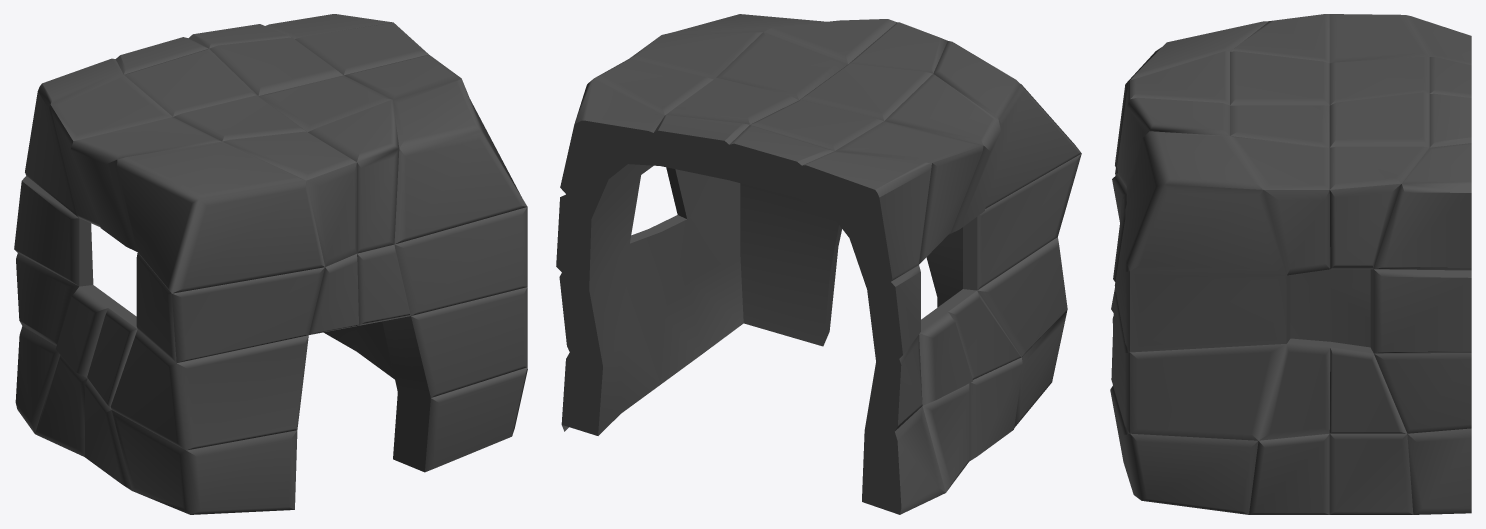
Rendered from Mesh_House_final_Interior_Temple_2_TL.fbx.
3 renders of one model, left to right at view 1: azimuth 30°, elevation 25°; view 2: azimuth 150°, elevation 25°; view 3: azimuth 270°, elevation 25°, orthographic.
Parts seen in each view (by area): view 1: Mesh_House_final_Interior_Temple_2_TL; view 2: Mesh_House_final_Interior_Temple_2_TL; view 3: Mesh_House_final_Interior_Temple_2_TL.
Part boxes in pixels (box(x1,y1,x2,y2)): Mesh_House_final_Interior_Temple_2_TL: box(14, 14, 527, 514); Mesh_House_final_Interior_Temple_2_TL: box(556, 14, 1081, 514); Mesh_House_final_Interior_Temple_2_TL: box(1110, 14, 1471, 514).
Bounding box in the file's own units: 666 × 569 × 543.
